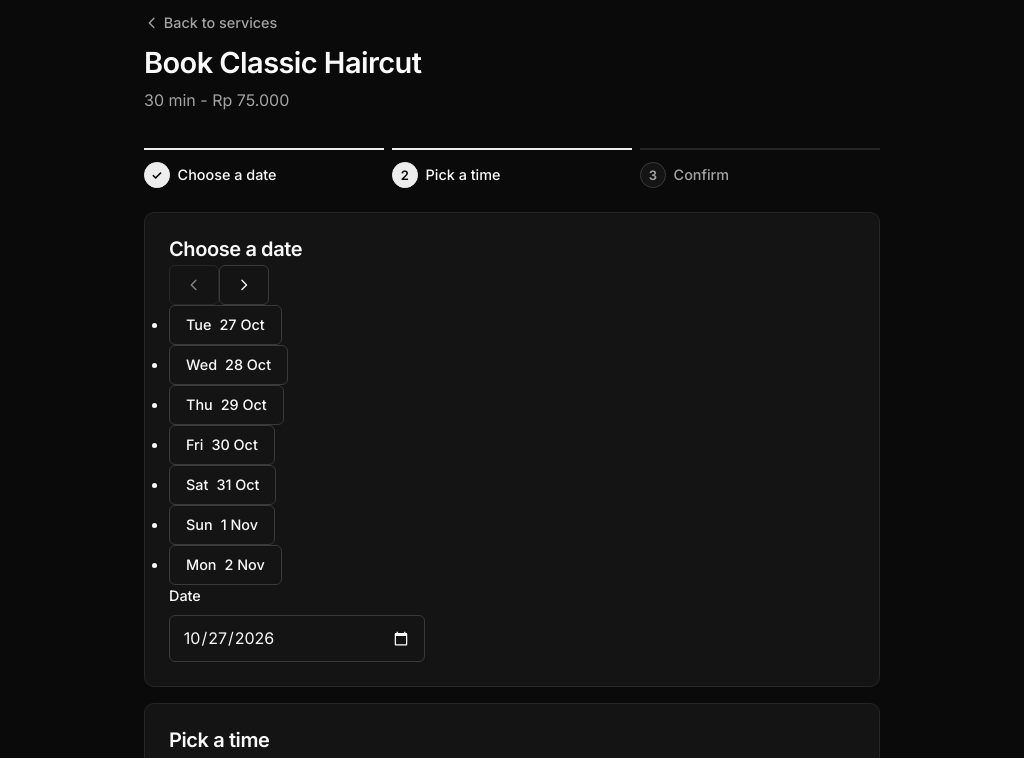
Test case: BookingPage › does not fetch slots for a past date
Type "2026-10-26" into the date field labelled "Date" at (297, 639), box [169,615,425,662]
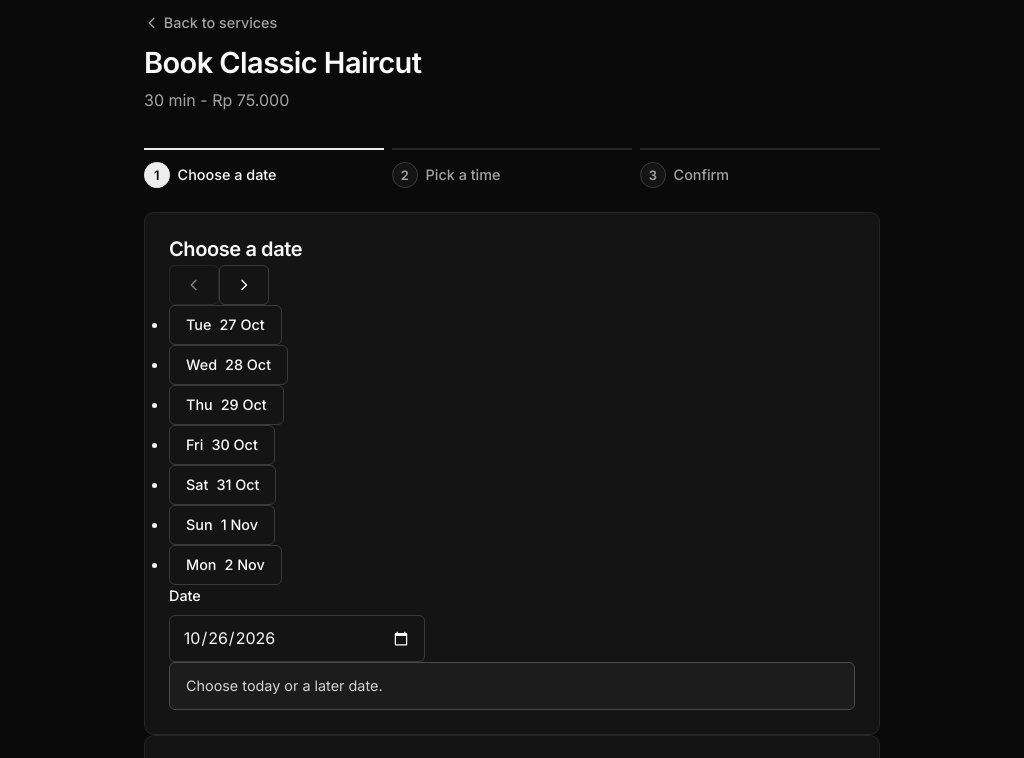
Expected: the message reads "Choose today or a later date.", [186,677,382,694]
